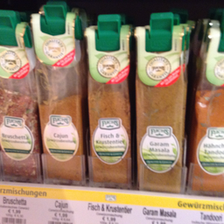spices: (30, 12, 86, 185), (133, 26, 189, 193), (86, 26, 131, 187), (1, 23, 41, 182)
